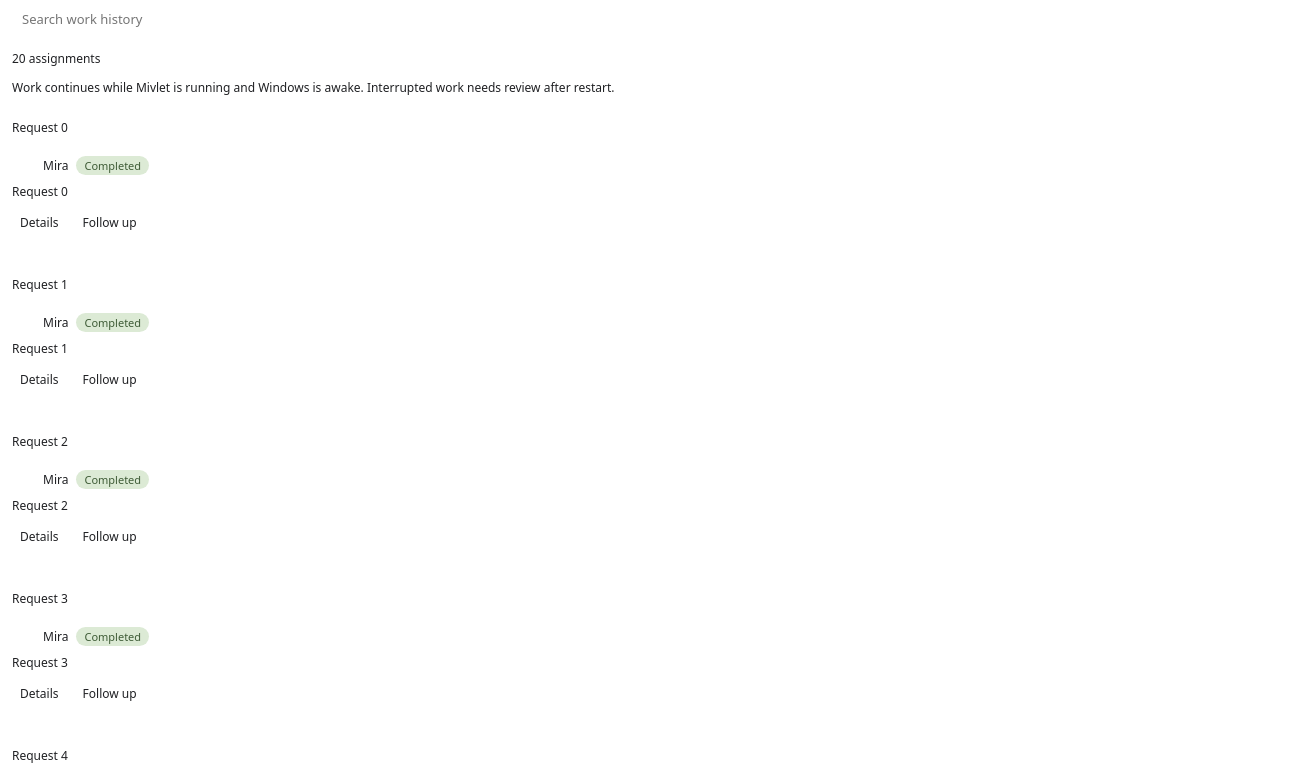
bounds work history while searching requests outside the first page
The image size is (1292, 783).
Expected: the text "Request 99" is not shown
Step 1. Type "Request 99" into the search field → (652, 19), box x1=22 y1=10 x2=1282 y2=28
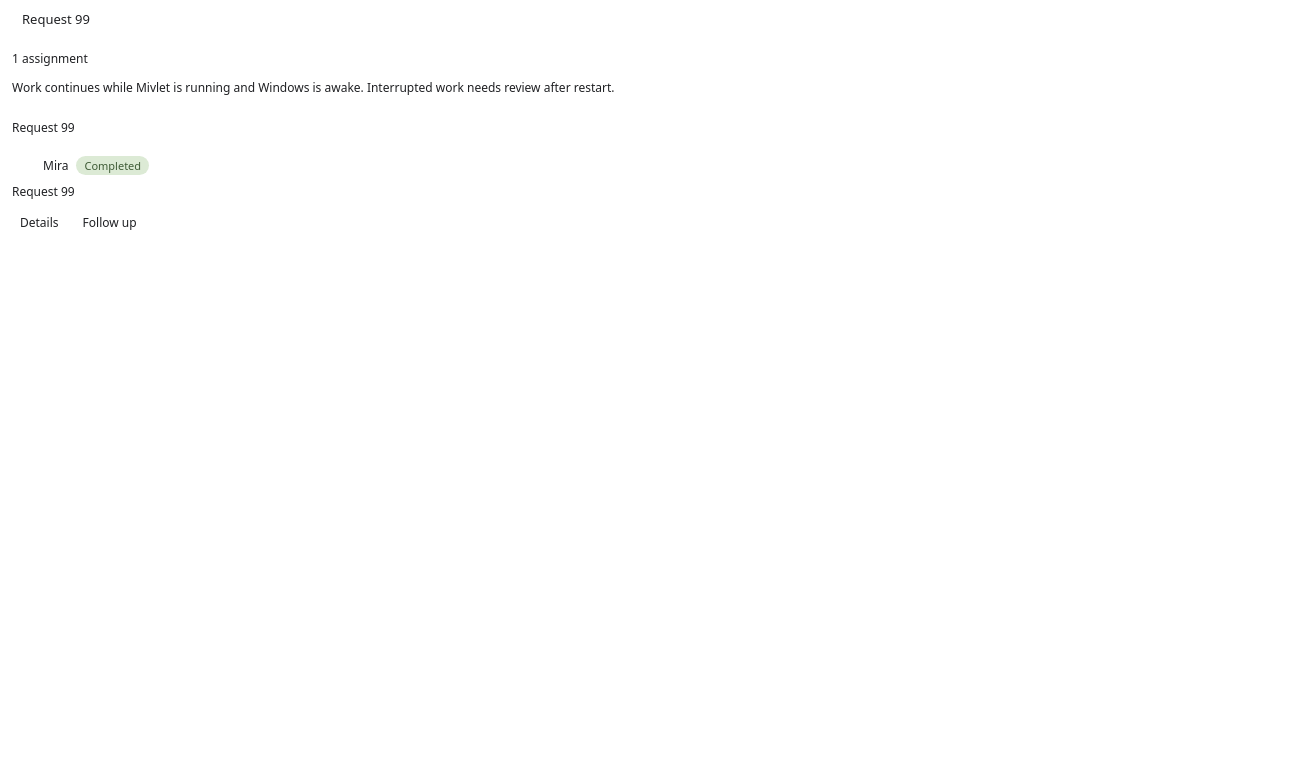
Result: the element named "Request: Request 99" is shown at x1=12 y1=119 x2=149 y2=238
